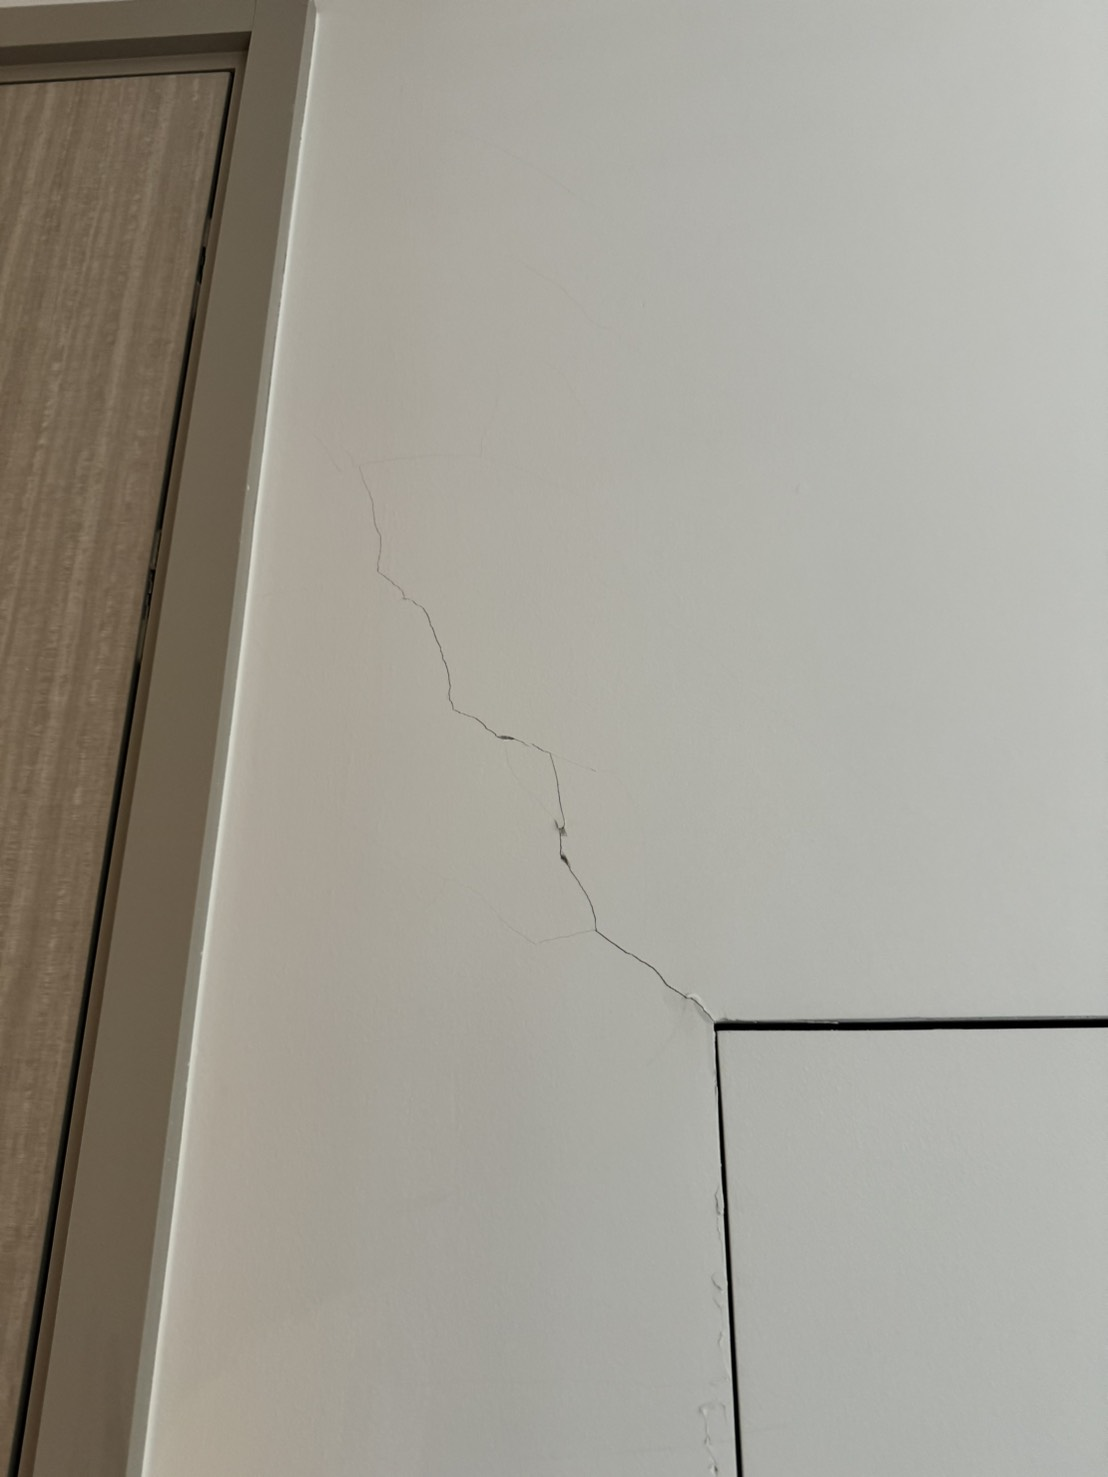Low: (322, 416, 850, 1055)
